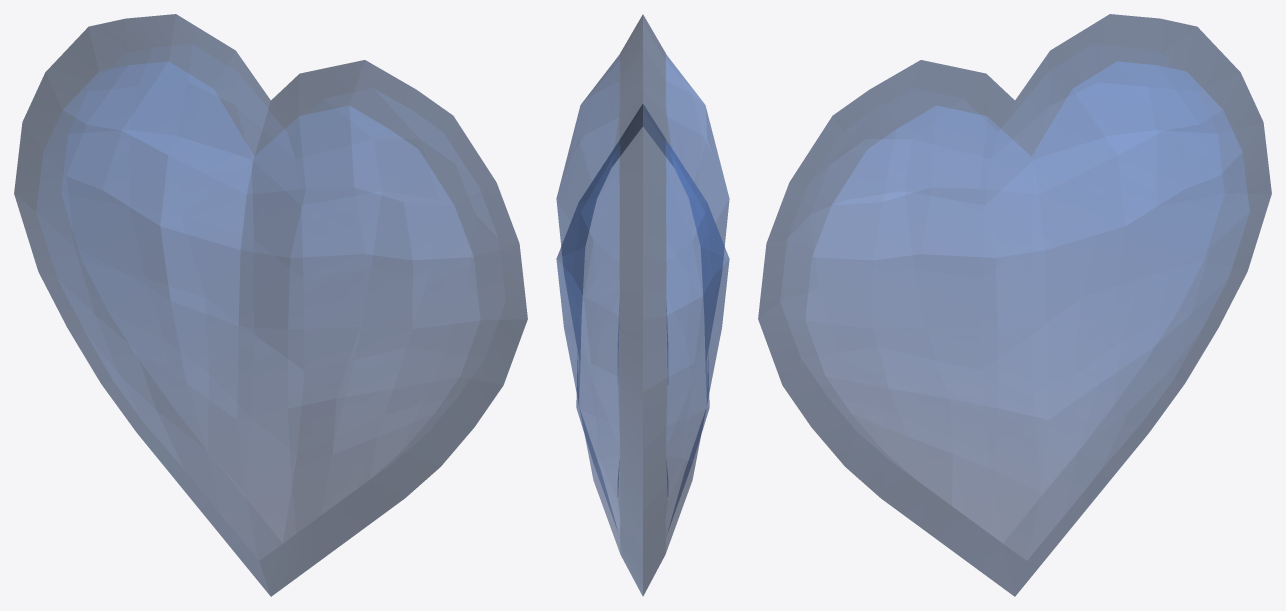
Rendered from OBJ_FrozenHeart.fbx.
3 renders of one model, left to right at view 1: azimuth 30°, elevation 25°; view 2: azimuth 150°, elevation 25°; view 3: azimuth 270°, elevation 25°, orthographic. The views are drawn at different scales.
Parts seen in each view (by area): view 1: OBJ_FrozenHeart; view 2: OBJ_FrozenHeart; view 3: OBJ_FrozenHeart.
Part boxes in pixels (bbox=[...]): OBJ_FrozenHeart: bbox=[14, 14, 527, 596]; OBJ_FrozenHeart: bbox=[556, 15, 729, 595]; OBJ_FrozenHeart: bbox=[758, 14, 1271, 596].
Size of the model in its own units: 29.1 by 58.26 by 48.45.
